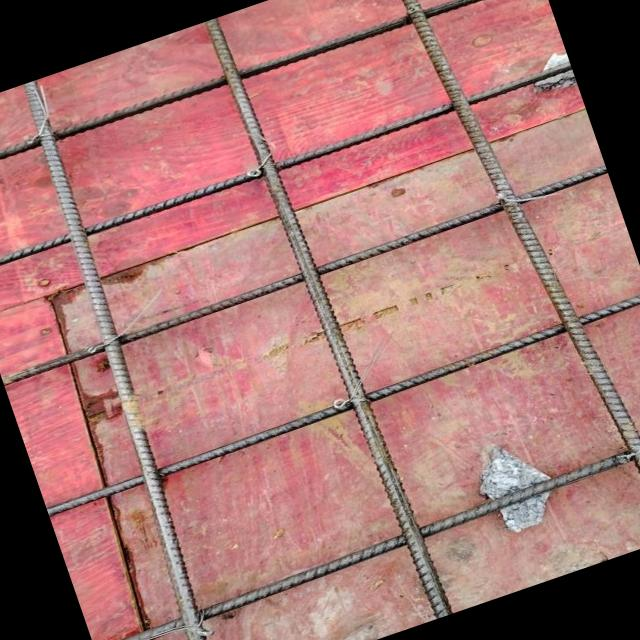ribbed bar: (202, 8, 452, 626), (379, 0, 640, 565), (0, 78, 247, 640), (0, 163, 608, 386), (43, 291, 640, 518), (0, 59, 571, 279), (88, 423, 640, 640), (0, 0, 541, 190)
